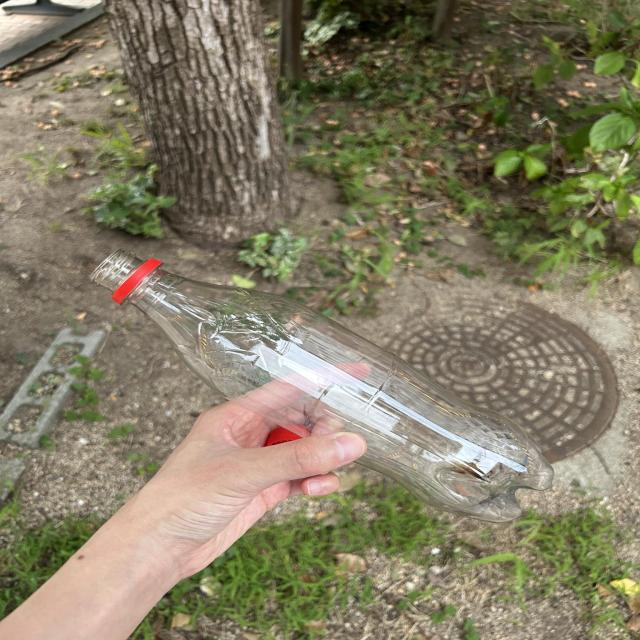empty: (92, 251, 552, 522)
